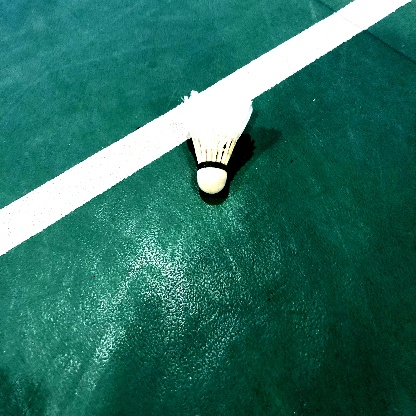ball_single: (181, 86, 253, 194)
